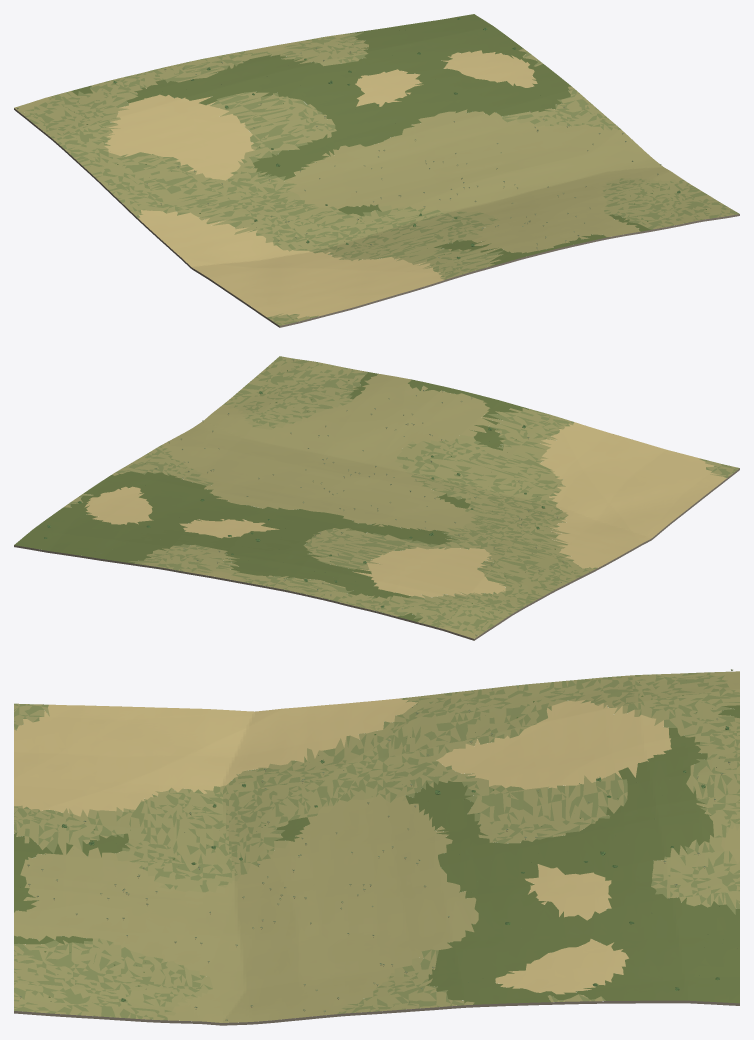
File: parca_-1_-4-yakin.glb
The picture shows the model from 3 angles, top to bottom: view 1: azimuth 30°, elevation 25°; view 2: azimuth 150°, elevation 25°; view 3: azimuth 270°, elevation 25°; orthographic projection. The views are drawn at different scales.
Parts seen in each view (by area): view 1: parca_-1_-4_arazi, parca_-1_-4_bitkiler; view 2: parca_-1_-4_arazi, parca_-1_-4_bitkiler; view 3: parca_-1_-4_arazi, parca_-1_-4_bitkiler.
Boxes of the visible parts, <box> form: parca_-1_-4_arazi: <box>14,14,739,327</box>; parca_-1_-4_bitkiler: <box>17,18,721,262</box>; parca_-1_-4_arazi: <box>14,356,739,640</box>; parca_-1_-4_bitkiler: <box>44,359,578,636</box>; parca_-1_-4_arazi: <box>14,671,739,1025</box>; parca_-1_-4_bitkiler: <box>20,669,737,1020</box>.
Bounding box in the file's own units: 1000 × 86.45 × 1000.
